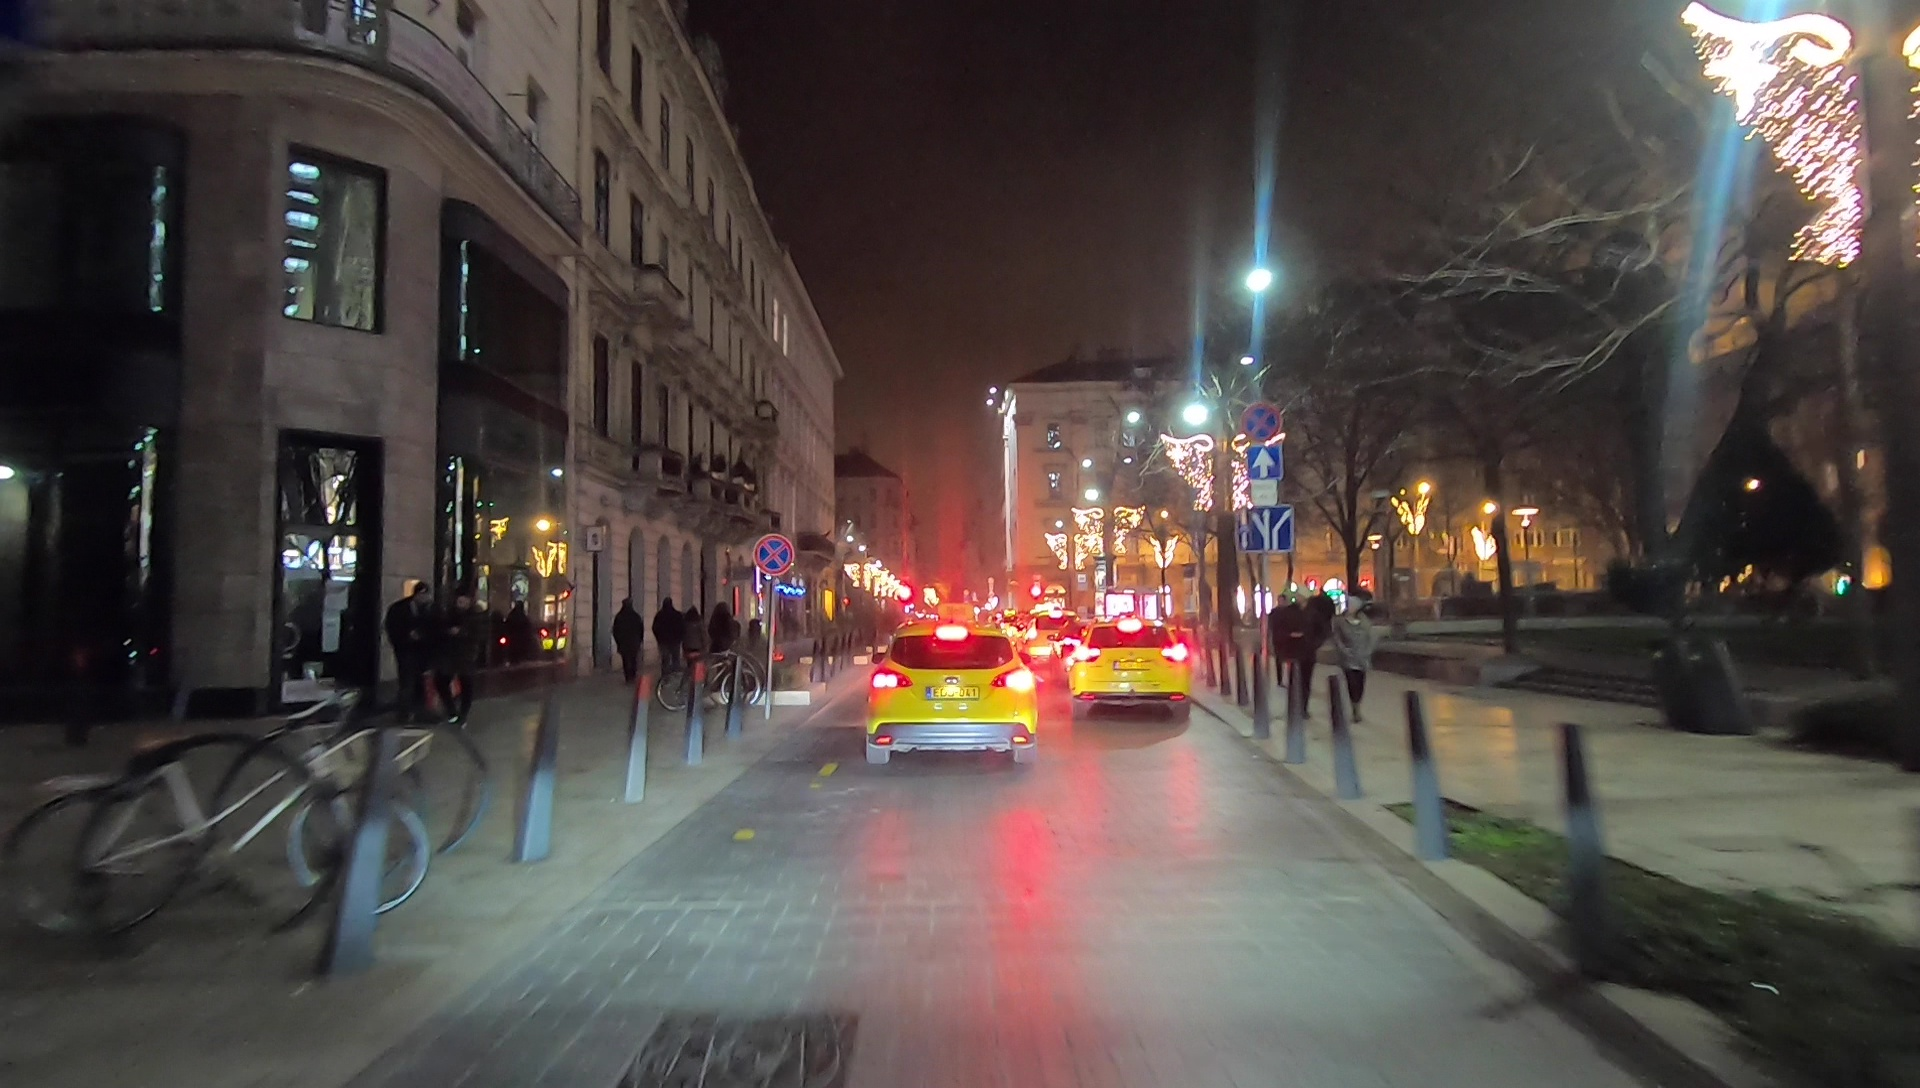person: (389, 584, 443, 728), (1269, 589, 1321, 713), (1332, 595, 1378, 726), (443, 591, 482, 724), (608, 589, 645, 678), (654, 589, 680, 673), (682, 606, 704, 695), (712, 606, 739, 674)
